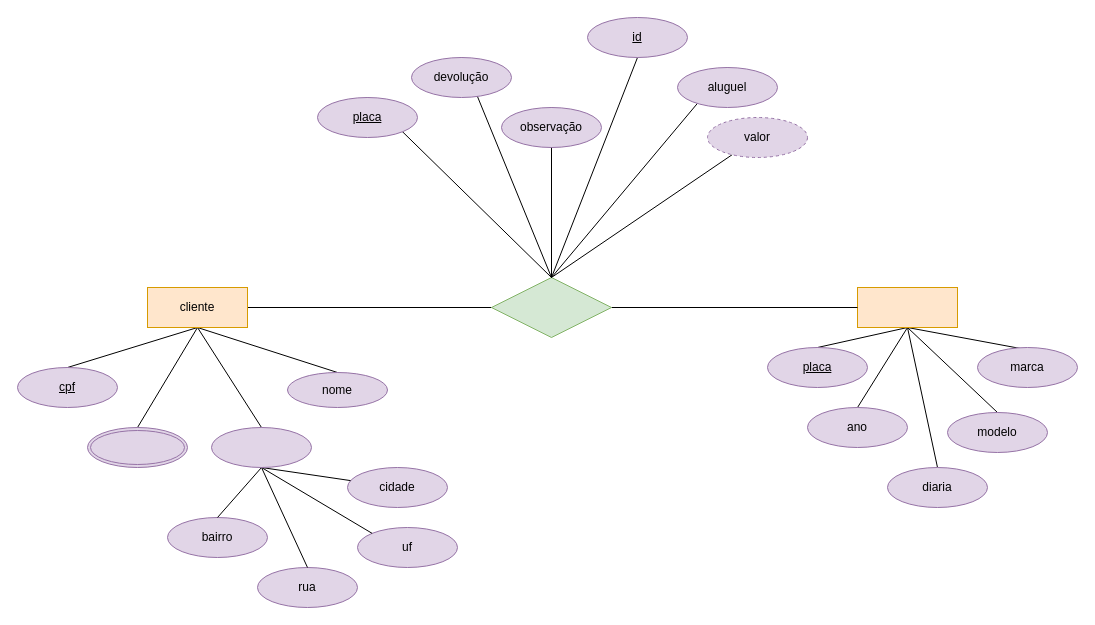
Some shapes in this 1095 by 625 pixel diagram are drawn without their labels. Each missing label, with the box of its shape:
aluga: (490, 276, 612, 338)
carro: (856, 286, 958, 328)
endereço: (210, 426, 312, 468)
telefone: (86, 426, 188, 468)
